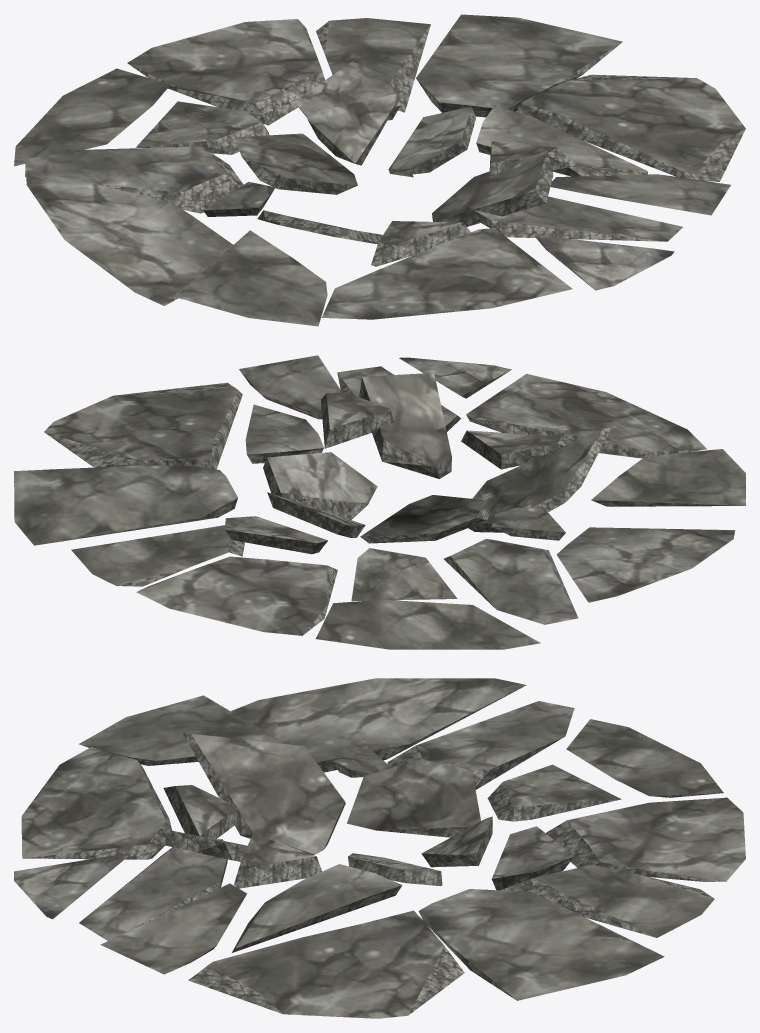
The model's file is dimian02.FBX.
3 renders of one model, top to bottom at view 1: azimuth 30°, elevation 25°; view 2: azimuth 150°, elevation 25°; view 3: azimuth 270°, elevation 25°, orthographic. The views are drawn at different scales.
Visible parts, largest first — view 1: Object005, Object011, Object004, Object009, Object002, Object012, Object010, Object013, Object003, Object007, Object022, Object016 (+11 smaller); view 2: Object004, Object005, Object002, Object009, Object013, Object011, Object012, Object010, Object016, Object003, Object017, Object023 (+11 smaller); view 3: Object005, Object004, Object011, Object009, Object002, Object017, Object003, Object022, Object012, Object010, Object013, Object007 (+11 smaller).
Part boxes in pixels (x1=…): Object005: x1=517, y1=74, x2=745, y2=181; Object011: x1=26, y1=169, x2=233, y2=305; Object004: x1=416, y1=14, x2=622, y2=117; Object009: x1=321, y1=228, x2=572, y2=319; Object002: x1=127, y1=19, x2=324, y2=125; Object012: x1=25, y1=146, x2=243, y2=213; Object010: x1=175, y1=230, x2=327, y2=326; Object013: x1=14, y1=68, x2=170, y2=166; Object003: x1=316, y1=18, x2=430, y2=112; Object007: x1=468, y1=196, x2=682, y2=241; Object022: x1=234, y1=133, x2=357, y2=194; Object016: x1=432, y1=150, x2=553, y2=226; Object004: x1=14, y1=465, x2=237, y2=545; Object005: x1=44, y1=382, x2=242, y2=469; Object002: x1=136, y1=556, x2=337, y2=635; Object009: x1=466, y1=374, x2=706, y2=458; Object013: x1=315, y1=599, x2=540, y2=649; Object011: x1=556, y1=527, x2=735, y2=602; Object012: x1=444, y1=539, x2=578, y2=624; Object010: x1=591, y1=449, x2=745, y2=506; Object016: x1=359, y1=373, x2=451, y2=478; Object003: x1=71, y1=525, x2=244, y2=586; Object017: x1=468, y1=428, x2=611, y2=532; Object023: x1=263, y1=452, x2=377, y2=519; Object005: x1=188, y1=910, x2=464, y2=1018; Object004: x1=418, y1=889, x2=664, y2=1000; Object011: x1=231, y1=678, x2=526, y2=772; Object009: x1=21, y1=747, x2=171, y2=859; Object002: x1=546, y1=797, x2=745, y2=881; Object017: x1=182, y1=732, x2=345, y2=854; Object003: x1=501, y1=864, x2=714, y2=937; Object022: x1=347, y1=759, x2=480, y2=837; Object012: x1=387, y1=701, x2=574, y2=789; Object010: x1=79, y1=695, x2=284, y2=765; Object013: x1=566, y1=719, x2=723, y2=797; Object007: x1=79, y1=839, x2=227, y2=940.
Size of the model in its own units: 528 by 65.51 by 492.
